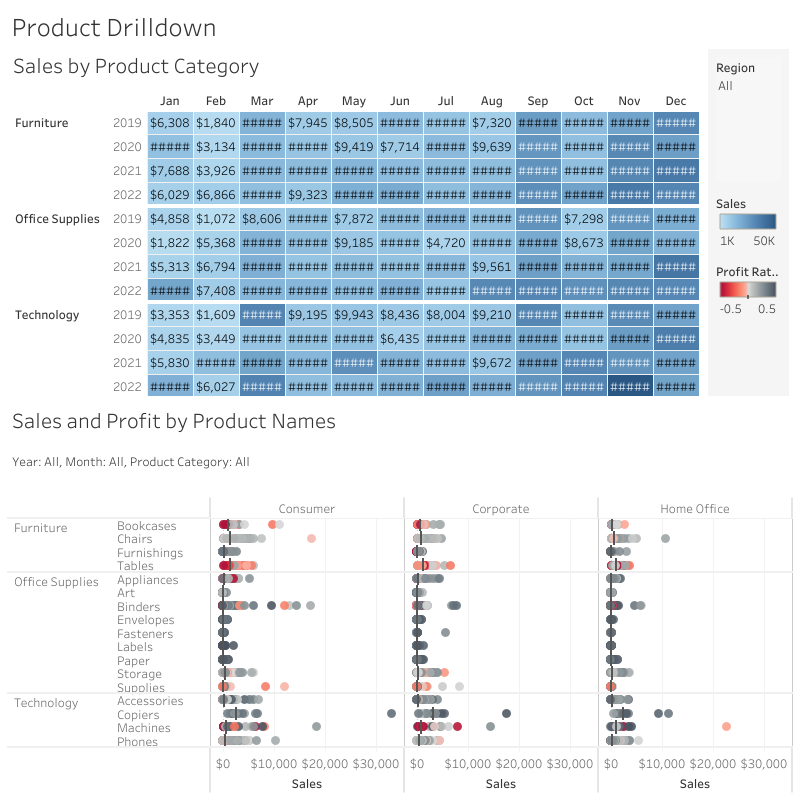

This screenshot's page, from the dashboard's own definition file:
{"tool":"tableau","page":{"name":"Product","canvas":[1000,1000],"units":"permille","ordinal":4},"visuals":[{"type":"title","box":[7,9.5,986,51.3]},{"type":"worksheet","title":"ProductView","mark":"Square","rows":["Category","Order Date"],"cols":["Order Date"],"box":[7,60.7,874.7,439.1]},{"type":"filter","title":"ProductView","param":"[federated.10nnk8d1vgmw8q17yu76u06pnbcj].[none:Region:nk]","box":[889.7,71.5,95.3,171.4]},{"type":"legend","title":"ProductView","param":"[federated.10nnk8d1vgmw8q17yu76u06pnbcj].[sum:Sales:qk]","box":[889.7,242.9,95.3,87.7]},{"type":"legend","title":"ProductDetails","param":"[federated.10nnk8d1vgmw8q17yu76u06pnbcj].[usr:Calculation_9921103144103743:qk]","box":[889.7,330.6,95.3,87.7]},{"type":"worksheet","title":"ProductDetails","mark":"Circle","rows":["Category","Sub-Category"],"cols":["Segment","Sales"],"box":[7,499.8,986,490.8]}]}

Visuals, with their boxes on the dashboard's canvas, which has no fixed pixel size, in thousandths of its width and height (x1, y1, x2, y2). These are canvas units, not pixel positions in the 800x800 screenshot, which may show the page scaled, cropped or inside an application window:
title: {"left": 7, "top": 10, "right": 993, "bottom": 61}
"ProductView" worksheet (Square marks): {"left": 7, "top": 61, "right": 882, "bottom": 500}
"ProductView" filter: {"left": 890, "top": 72, "right": 985, "bottom": 243}
"ProductView" legend: {"left": 890, "top": 243, "right": 985, "bottom": 331}
"ProductDetails" legend: {"left": 890, "top": 331, "right": 985, "bottom": 418}
"ProductDetails" worksheet (Circle marks): {"left": 7, "top": 500, "right": 993, "bottom": 991}
